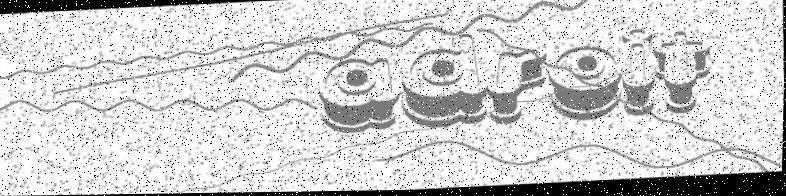a: (316, 56, 400, 136)
d: (398, 33, 489, 133)
i: (619, 29, 657, 119)
o: (546, 46, 625, 126)
r: (485, 48, 551, 127)
t: (652, 31, 715, 117)
